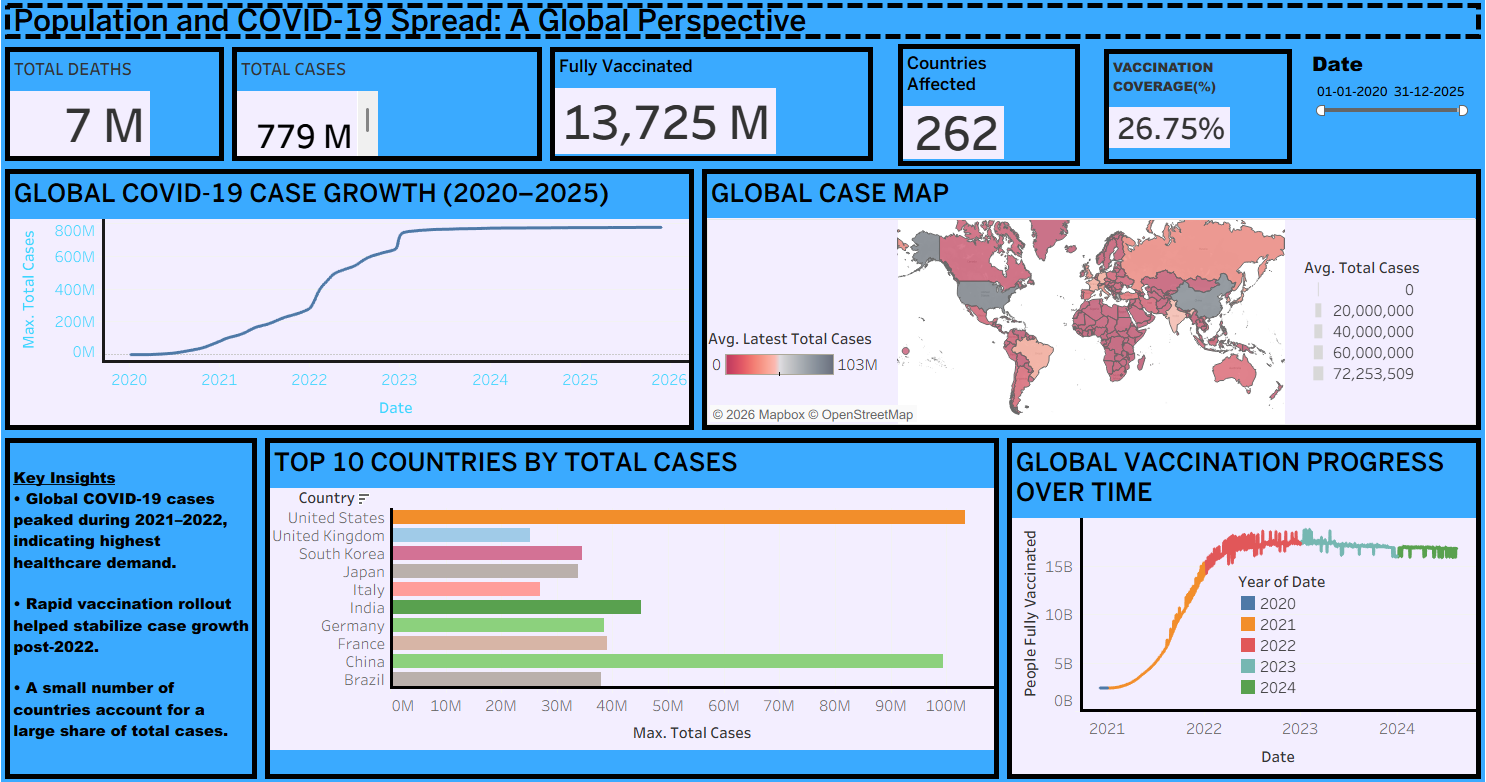

The dashboard page shown, as its layout file describes it:
{"tool":"tableau","page":{"name":"Dashboard 2","canvas":[1500,800],"ordinal":0},"visuals":[{"type":"title","box":[8,8,1484,44]},{"type":"worksheet","title":"Sheet 7","mark":"Automatic","box":[8,52,227,122]},{"type":"worksheet","title":"Sheet 6","mark":"Automatic","box":[235,52,318,122]},{"type":"worksheet","title":"Sheet 8","mark":"Automatic","box":[553,52,331,122]},{"type":"worksheet","title":"Sheet 9","mark":"Automatic","box":[905,53,182,122]},{"type":"worksheet","title":"Sheet 10","mark":"Automatic","box":[1111,58,188,115]},{"type":"filter","title":"Sheet 1","param":"[federated.0lew2vg0gq7y0p195kg0e1idhjxd].[none:date:qk]","box":[1319,58,160,116]},{"type":"worksheet","title":"Sheet 1","mark":"Line","rows":["total_cases"],"cols":["date"],"box":[8,174,697,269.4]},{"type":"worksheet","title":"Sheet 2","mark":"Multipolygon","box":[705,174,787,269.4]},{"type":"legend","title":"Sheet 2","param":"[federated.0lew2vg0gq7y0p195kg0e1idhjxd].[avg:total_cases:qk]","box":[1311,266,123,132]},{"type":"legend","title":"Sheet 2","param":"[federated.0lew2vg0gq7y0p195kg0e1idhjxd].[avg:Calculation_2338405215584256:qk]","box":[715,337,175,58]},{"type":"text","box":[8,443.4,260,348.6]},{"type":"worksheet","title":"Sheet 3","mark":"Bar","rows":["country"],"cols":["total_cases"],"box":[268,443.4,742,348.6]},{"type":"worksheet","title":"Sheet 4","mark":"Line","rows":["people_fully_vaccinated"],"cols":["date"],"box":[1010,443.4,482,348.6]},{"type":"legend","title":"Sheet 4","param":"[federated.0lew2vg0gq7y0p195kg0e1idhjxd].[yr:date:ok]","box":[1245,580,175,127]}]}

Visuals, with their boxes in screenshot pixels (x1, y1, x2, y2), scaled from the page's 1500x800 canvas onto the 1486x782 screenshot:
title: 8, 8, 1478, 51
"Sheet 7" worksheet: 8, 51, 233, 170
"Sheet 6" worksheet: 233, 51, 548, 170
"Sheet 8" worksheet: 548, 51, 876, 170
"Sheet 9" worksheet: 897, 52, 1077, 171
"Sheet 10" worksheet: 1101, 57, 1287, 169
"Sheet 1" filter: 1307, 57, 1465, 170
"Sheet 1" worksheet (Line marks): 8, 170, 698, 433
"Sheet 2" worksheet (Multipolygon marks): 698, 170, 1478, 433
"Sheet 2" legend: 1299, 260, 1421, 389
"Sheet 2" legend: 708, 329, 882, 386
text: 8, 433, 265, 774
"Sheet 3" worksheet (Bar marks): 265, 433, 1001, 774
"Sheet 4" worksheet (Line marks): 1001, 433, 1478, 774
"Sheet 4" legend: 1233, 567, 1407, 691
